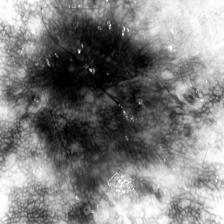Benign Marking or Mole: (0, 8, 215, 208)
